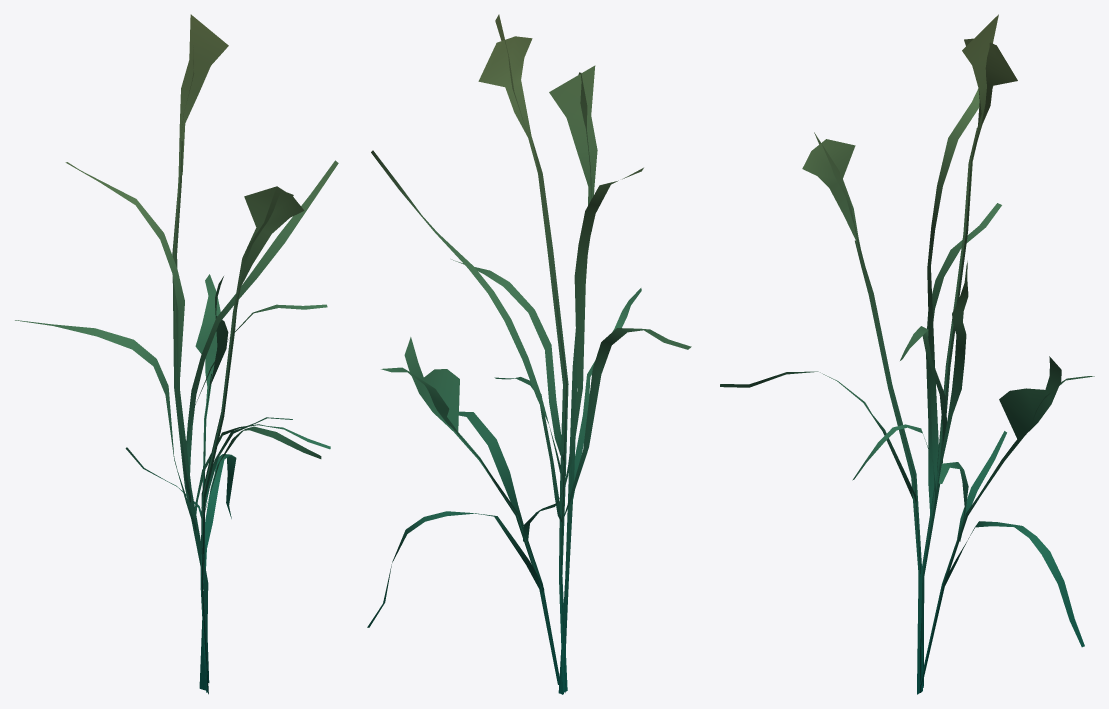
Rendered from grass_medium_01_8.glb.
3 renders of one model, left to right at view 1: azimuth 30°, elevation 25°; view 2: azimuth 150°, elevation 25°; view 3: azimuth 270°, elevation 25°, orthographic. The views are drawn at different scales.
Visible parts, largest first — view 1: grass_medium_01_tall_a_LOD0; view 2: grass_medium_01_tall_a_LOD0; view 3: grass_medium_01_tall_a_LOD0.
Boxes of the visible parts, x1,y1,x2,y2 form: grass_medium_01_tall_a_LOD0: [15, 14, 338, 694]; grass_medium_01_tall_a_LOD0: [367, 14, 691, 694]; grass_medium_01_tall_a_LOD0: [720, 14, 1094, 694].
Size of the model in its own units: 0.161 by 0.3225 by 0.1585.
